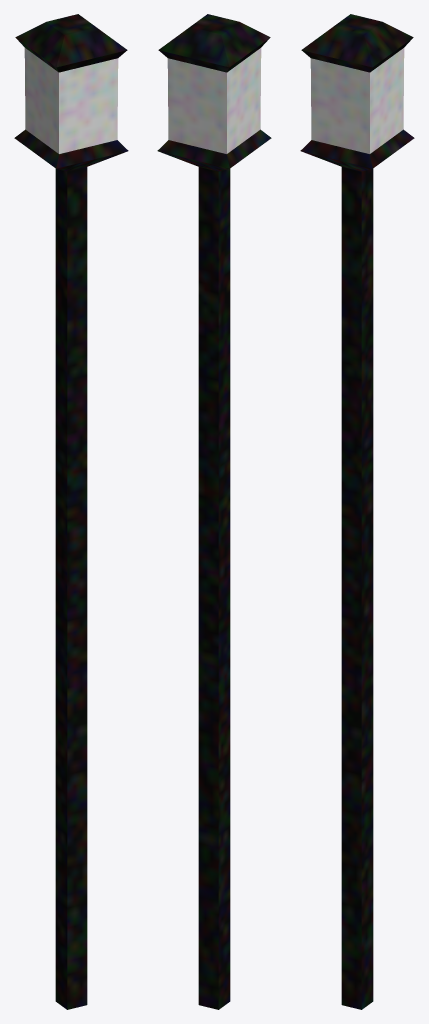
Rendered from Stolb.FBX.
3 renders of one model, left to right at view 1: azimuth 30°, elevation 25°; view 2: azimuth 150°, elevation 25°; view 3: azimuth 330°, elevation 25°, orthographic.
Parts seen in each view (by area): view 1: Box01; view 2: Box01; view 3: Box01.
Boxes of the visible parts, x1,y1,x2,y2 form: Box01: (14, 14, 128, 1009); Box01: (157, 14, 271, 1009); Box01: (300, 14, 414, 1009).
Bounding box in the file's own units: 18.12 × 18.12 × 233.
Materials: 1 (1 with a texture image).
